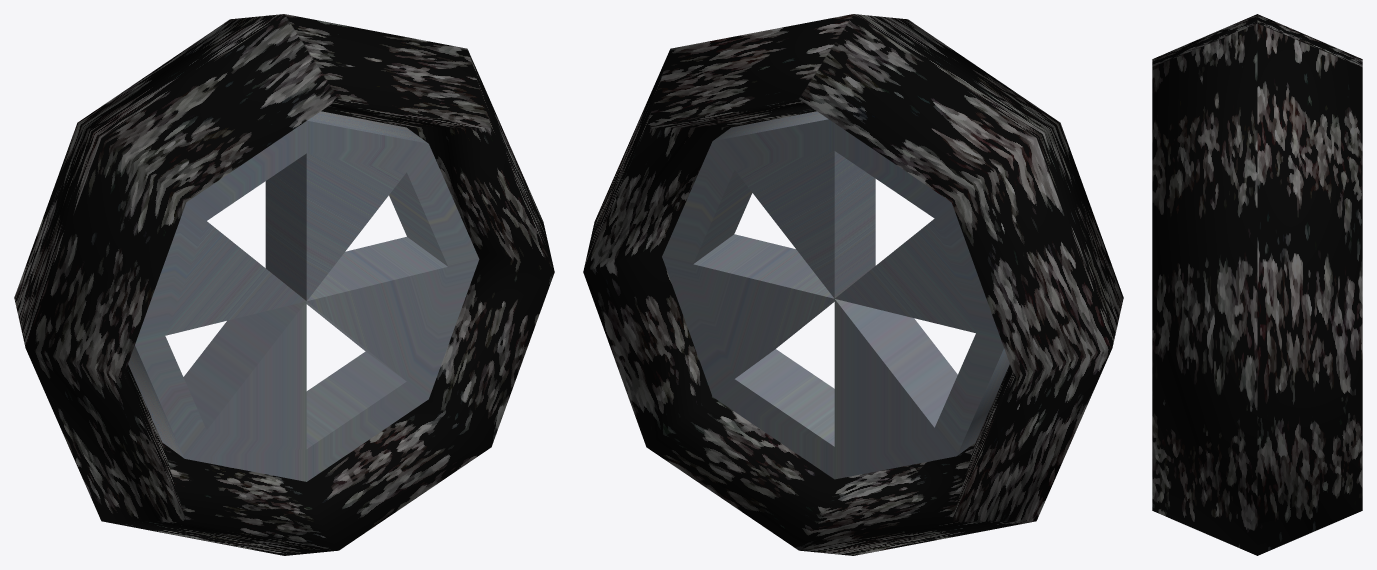
The model's file is Wheel.fbx.
3 renders of one model, left to right at view 1: azimuth 30°, elevation 25°; view 2: azimuth 150°, elevation 25°; view 3: azimuth 270°, elevation 25°, orthographic. The views are drawn at different scales.
Parts seen in each view (by area): view 1: Tire, Wheel Rim; view 2: Tire, Wheel Rim; view 3: Tire.
Boxes of the visible parts, bbox=[...] form: Tire: bbox=[14, 14, 554, 555]; Wheel Rim: bbox=[128, 111, 479, 481]; Tire: bbox=[583, 14, 1123, 555]; Wheel Rim: bbox=[662, 111, 1009, 479]; Tire: bbox=[1152, 14, 1362, 555].
Bounding box in the file's own units: 1.2 × 1.2 × 0.4371.
